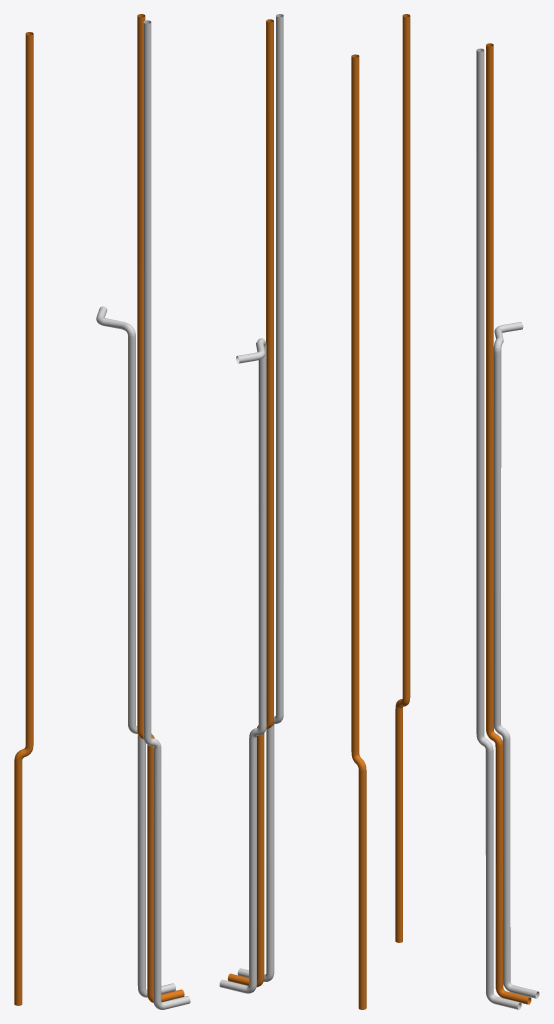
File: SM_H_Building_Tide_Ventilate_03g_ATLAS.fbx
3 renders of one model, left to right at view 1: azimuth 30°, elevation 25°; view 2: azimuth 150°, elevation 25°; view 3: azimuth 330°, elevation 25°, orthographic. The views are drawn at different scales.
Parts seen in each view (by area): view 1: SM_H_Building_Tide_Ventilate_03g_ATLAS; view 2: SM_H_Building_Tide_Ventilate_03g_ATLAS; view 3: SM_H_Building_Tide_Ventilate_03g_ATLAS.
Boxes of the visible parts, x1,y1,x2,y2 form: SM_H_Building_Tide_Ventilate_03g_ATLAS: [14, 14, 190, 1009]; SM_H_Building_Tide_Ventilate_03g_ATLAS: [219, 14, 366, 1009]; SM_H_Building_Tide_Ventilate_03g_ATLAS: [395, 14, 539, 1009].
Size of the model in its own units: 899 by 475 by 5548.
